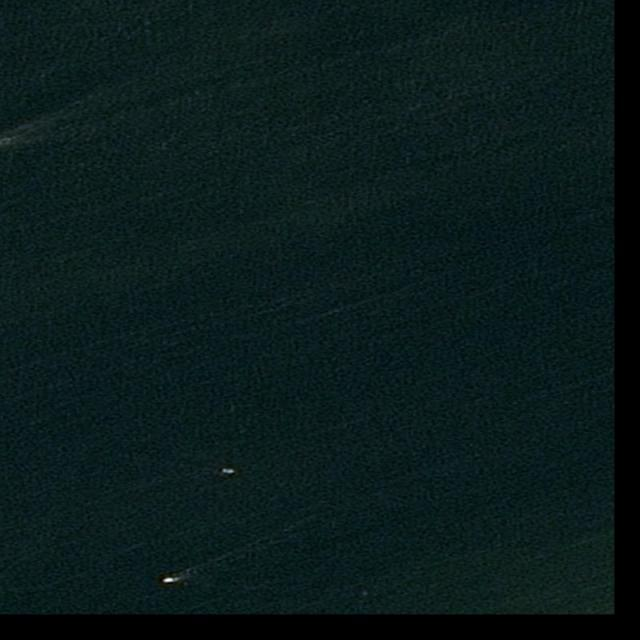ship: (161, 576, 175, 585), (221, 468, 234, 474)
